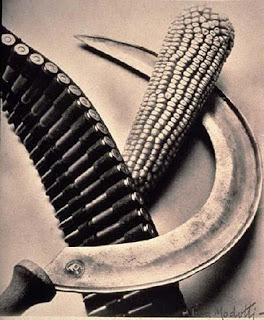foice: (8, 34, 262, 318)
